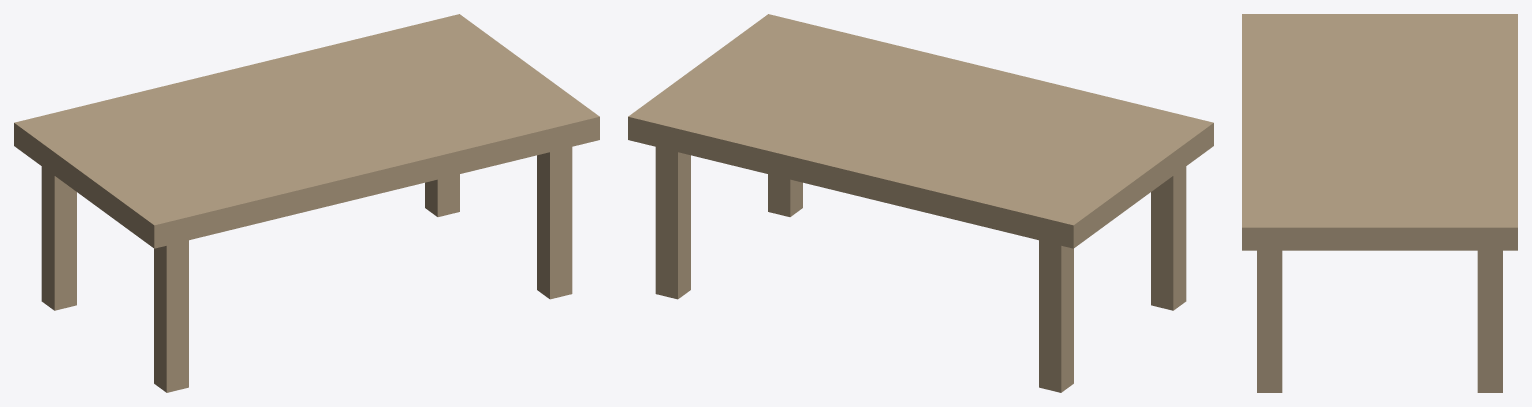
The model's file is coffee_table.glb.
The picture shows the model from 3 angles, left to right: view 1: azimuth 30°, elevation 25°; view 2: azimuth 150°, elevation 25°; view 3: azimuth 270°, elevation 25°; orthographic projection.
Parts seen in each view (by area): view 1: coffee_table_top, coffee_table_leg_1_1, coffee_table_leg_0_1, coffee_table_leg_0_0, coffee_table_leg_1_0; view 2: coffee_table_top, coffee_table_leg_1_0, coffee_table_leg_0_0, coffee_table_leg_0_1, coffee_table_leg_1_1; view 3: coffee_table_top, coffee_table_leg_1_0, coffee_table_leg_1_1.
Part boxes in pixels (x1=…): coffee_table_top: x1=14, y1=14, x2=599, y2=248; coffee_table_leg_1_1: x1=537, y1=147, x2=572, y2=299; coffee_table_leg_0_1: x1=154, y1=240, x2=188, y2=392; coffee_table_leg_0_0: x1=41, y1=166, x2=76, y2=310; coffee_table_leg_1_0: x1=425, y1=174, x2=459, y2=216; coffee_table_top: x1=628, y1=14, x2=1213, y2=248; coffee_table_leg_1_0: x1=655, y1=147, x2=690, y2=299; coffee_table_leg_0_0: x1=1039, y1=240, x2=1073, y2=392; coffee_table_leg_0_1: x1=1151, y1=166, x2=1186, y2=310; coffee_table_leg_1_1: x1=768, y1=174, x2=802, y2=216; coffee_table_top: x1=1242, y1=14, x2=1517, y2=250; coffee_table_leg_1_0: x1=1477, y1=250, x2=1502, y2=392; coffee_table_leg_1_1: x1=1257, y1=250, x2=1282, y2=392.
Size of the model in its own units: 1.1 by 0.42 by 0.6.
